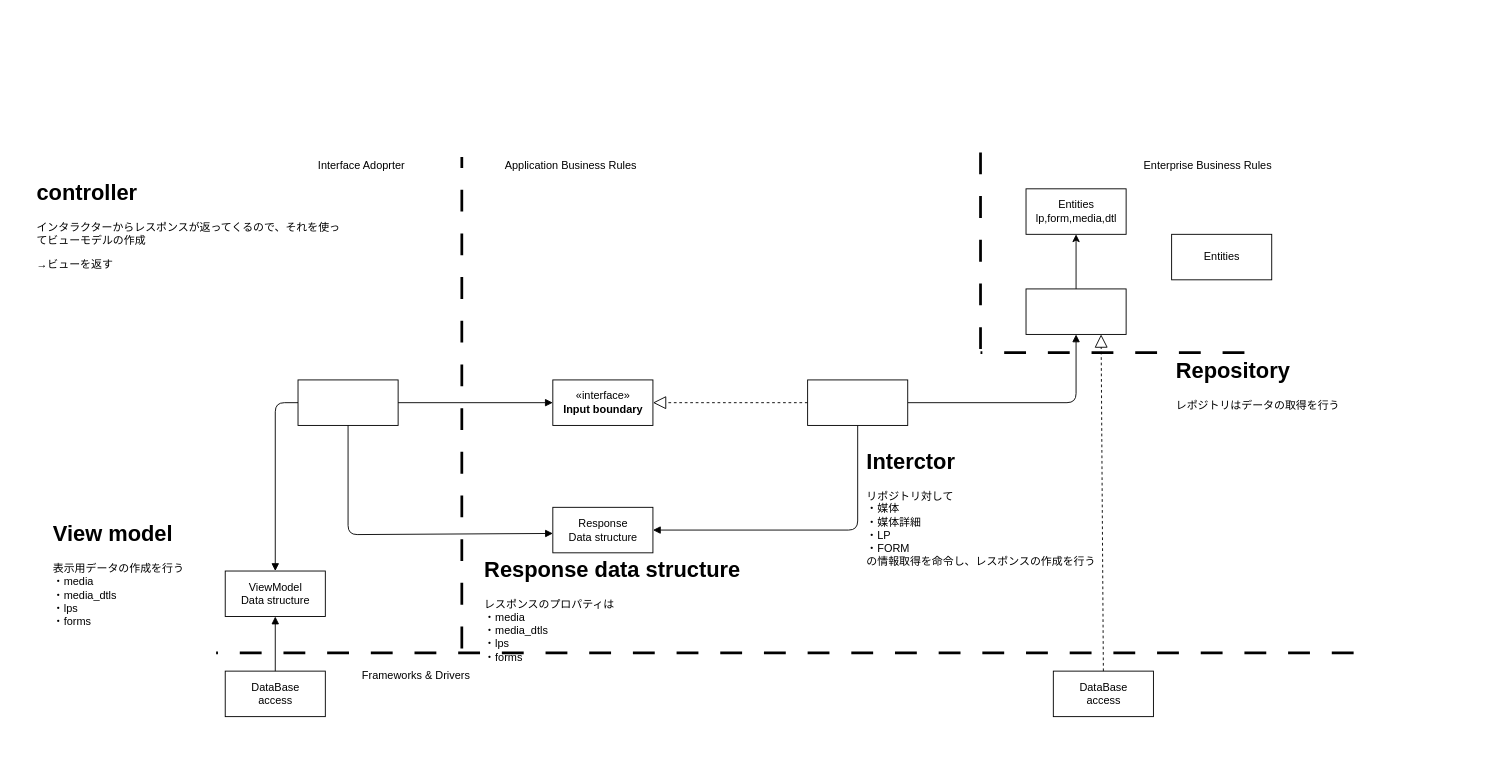
Image size: 1487x759. Some labels were removed from this diagram. The centre of each missing label's shape, as x and y in pixels:
Controller: point 347,402
«interface» Create UseCase: point 857,402
«interface» Repository: point 1075,311
